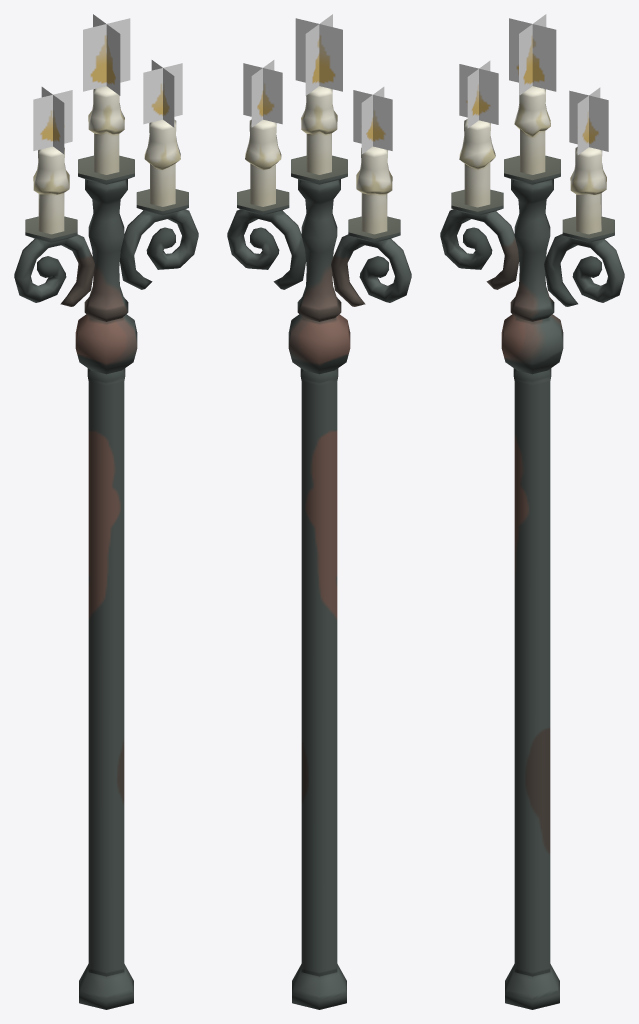
File: spear-static-l2.glb
The picture shows the model from 3 angles, left to right: view 1: azimuth 30°, elevation 25°; view 2: azimuth 150°, elevation 25°; view 3: azimuth 330°, elevation 25°; orthographic projection.
Visible parts, largest first — view 1: SM_Spear_V2; view 2: SM_Spear_V2; view 3: SM_Spear_V2.
Boxes of the visible parts, x1=… form: SM_Spear_V2: x1=14, y1=14, x2=198, y2=1009; SM_Spear_V2: x1=227, y1=14, x2=411, y2=1009; SM_Spear_V2: x1=440, y1=14, x2=624, y2=1009.
Size of the model in its own units: 47.35 by 242 by 13.77.
1 material, 1 textured.
